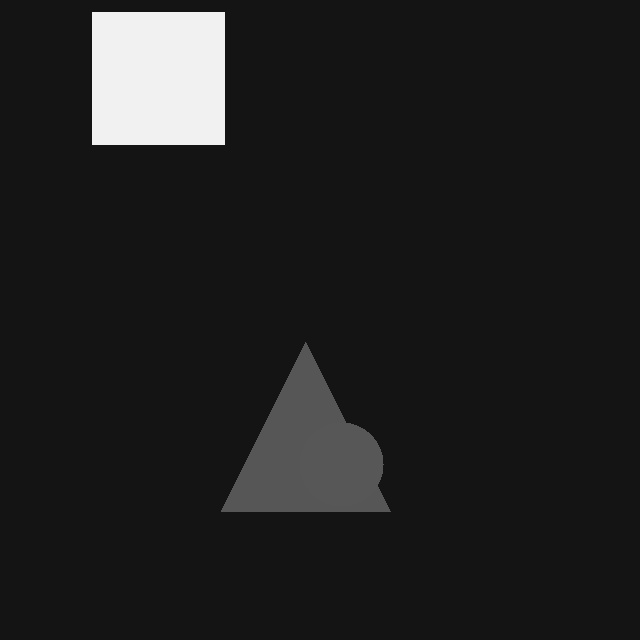circle: (299, 422, 383, 506)
square: (92, 12, 224, 144)
triangle: (221, 342, 390, 511)
